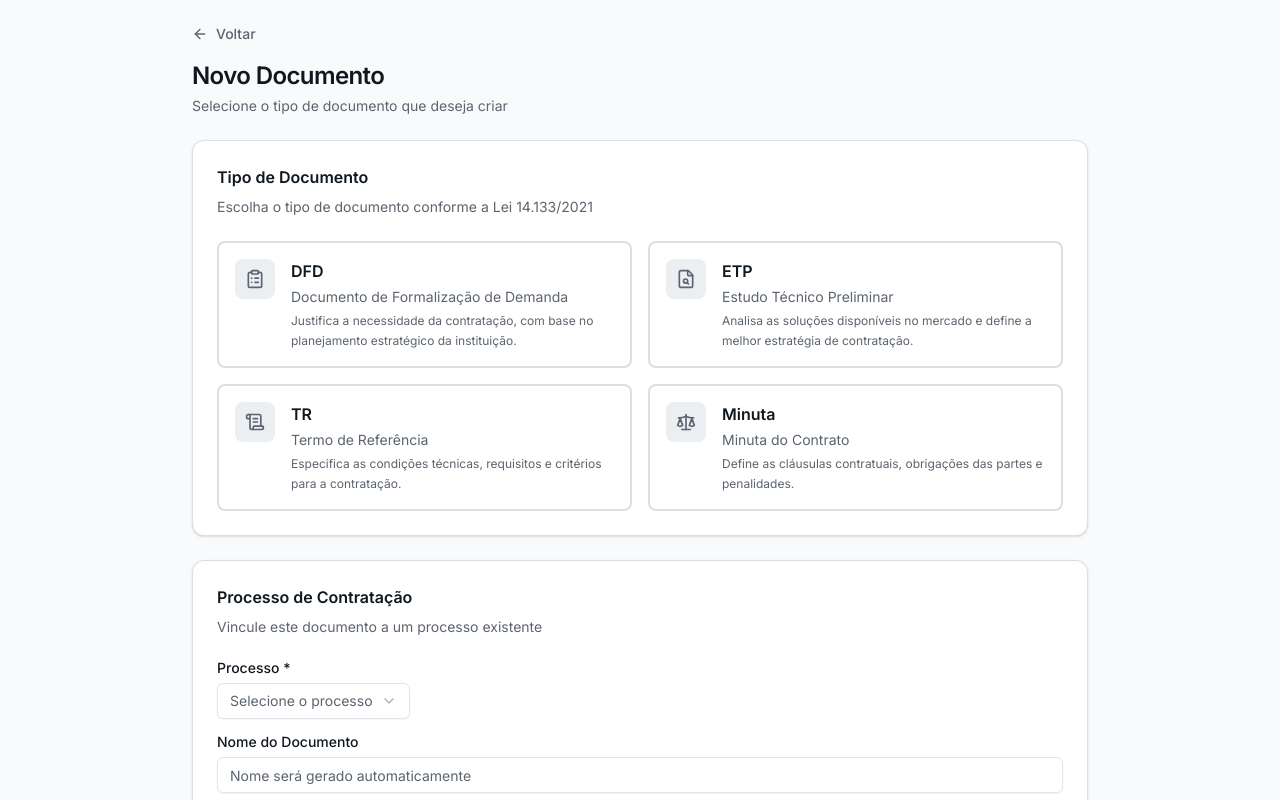
Test case: DocumentCreatePage › 4.2 – Name suggestion, submission, and error › generates the suggested name when type and process are both selected
This screenshot has width=1280, height=800.
# Select DFD card
What coordinates should you click on to do the following:
click the button with aria-label "Selecionar DFD"
I would click on:
 (424, 304)
Its box is [217, 241, 632, 368].
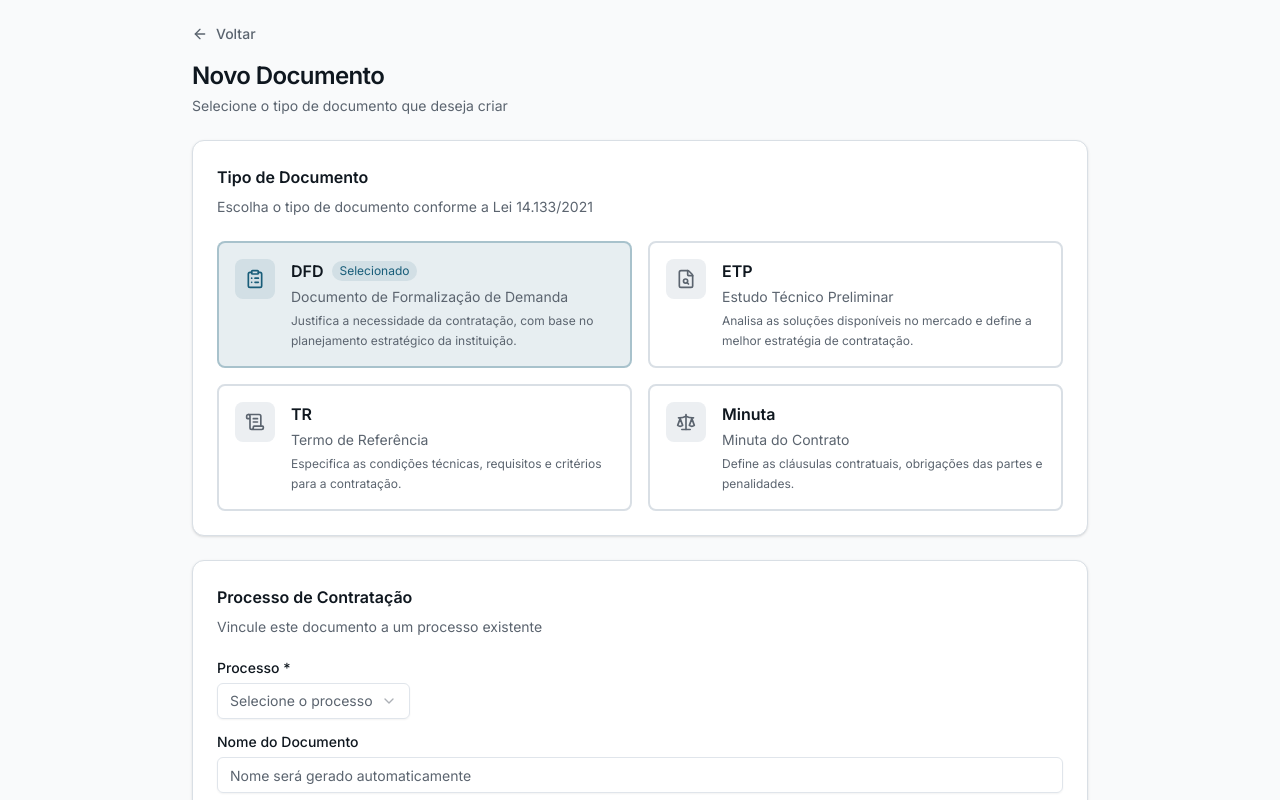
# Open select and choose process
What coordinates should you click on to do the following:
click the dropdown
I would click on:
 (313, 701)
Its box is [217, 683, 410, 719].
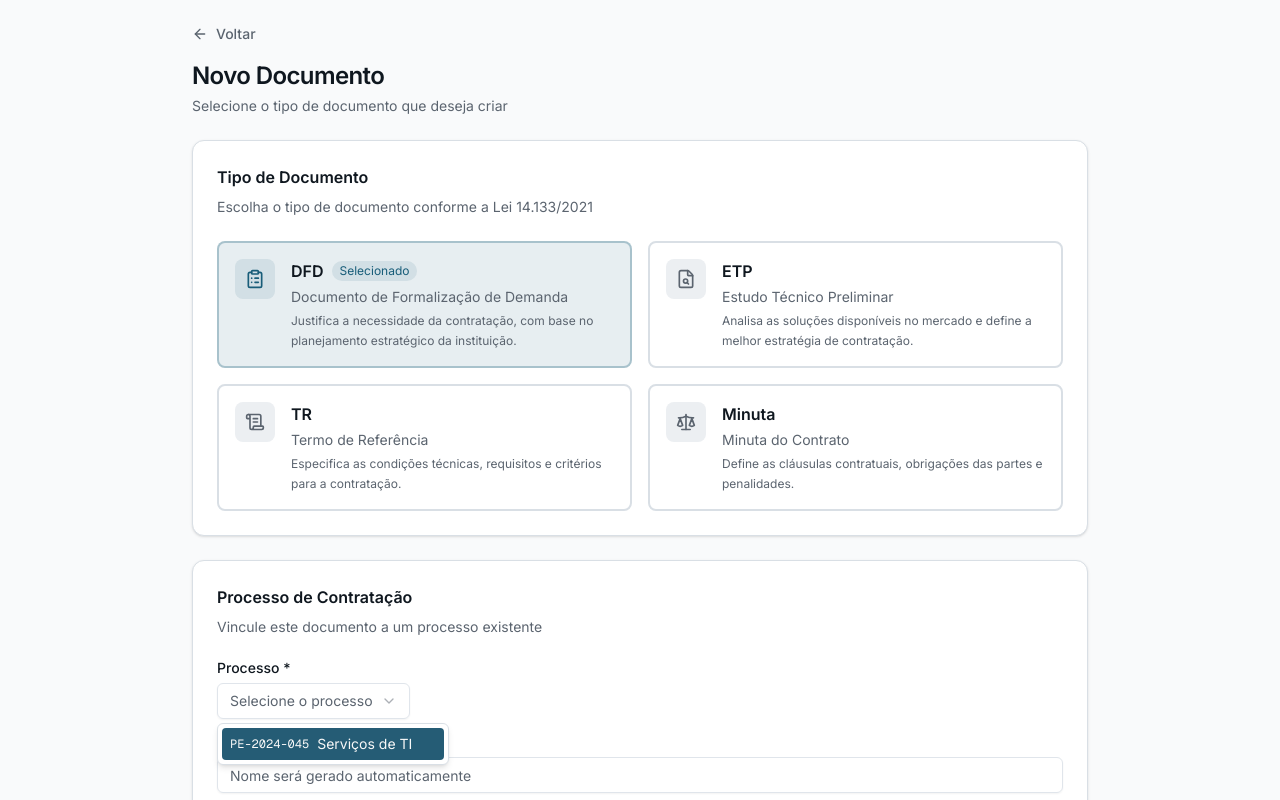
expect the option "PE-2024-045 Serviços de TI" is shown: met
What coordinates should you click on to do the following:
click the option "PE-2024-045 Serviços de TI"
I would click on:
 (333, 744)
Its box is [222, 728, 444, 760].
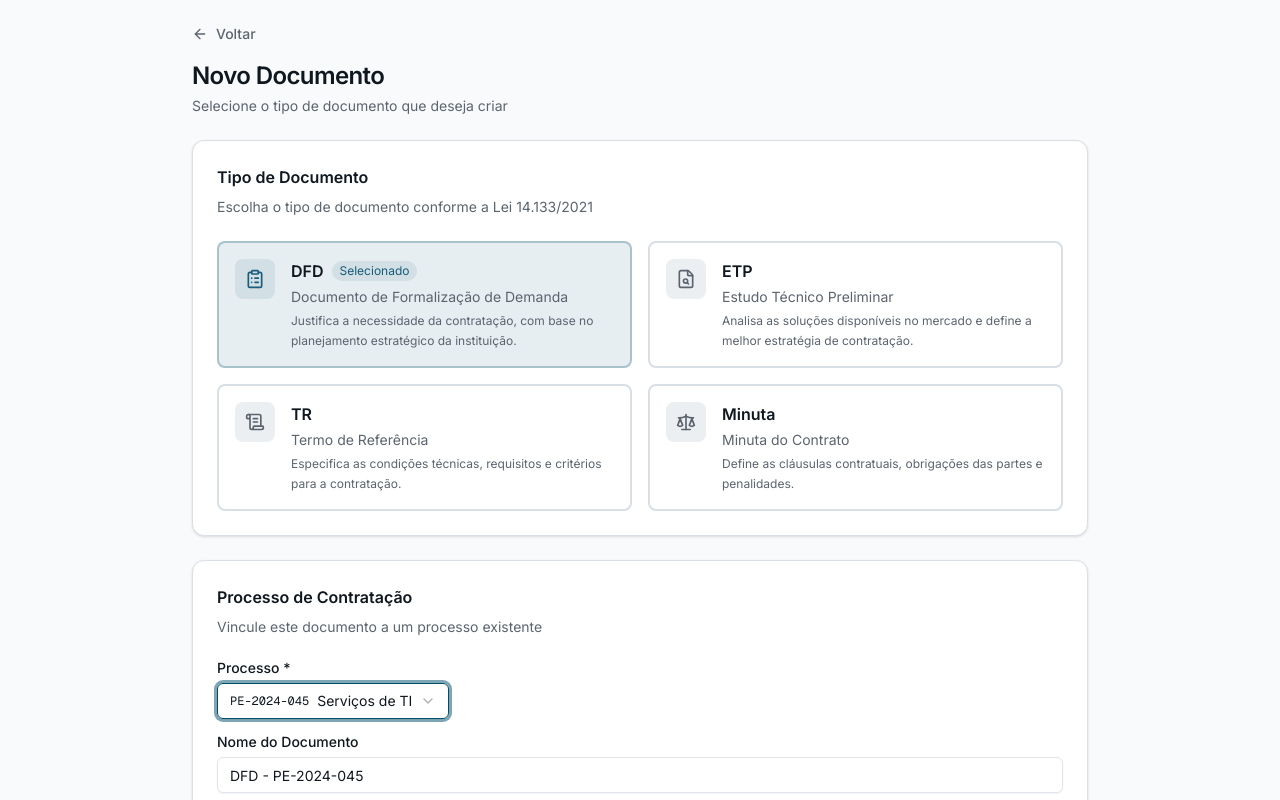
expect the field labelled "Nome do Documento" holds "DFD - PE-2024-045": met, box [217, 757, 1063, 793]
